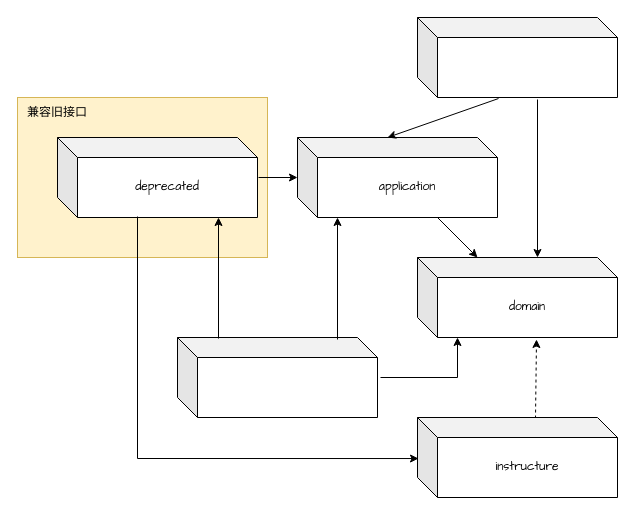
The diagram is 635 pixels wide and 515 high, and some of its shapes have lost their labels. The shapes that lost their labels are listed below. From the top down, each one's centre as x and y in pixels, then its label:
the point at 517,57: web
the point at 277,377: framework
